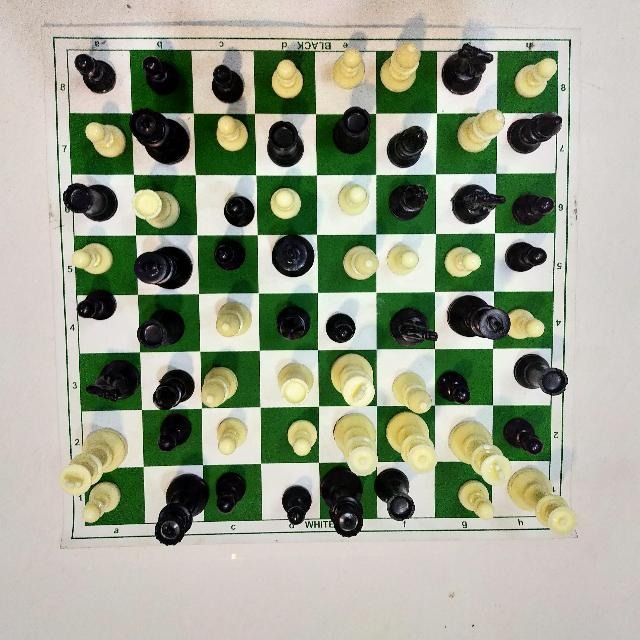black-bishop: (505, 112, 569, 158), (146, 367, 197, 411), (384, 178, 434, 222), (388, 119, 430, 169), (276, 298, 321, 342)
black-king: (450, 290, 510, 344), (131, 241, 196, 289), (269, 229, 318, 282)
black-knight: (437, 39, 499, 97), (450, 175, 508, 228), (85, 355, 143, 405), (388, 298, 442, 347)
black-pawn: (70, 44, 120, 96), (199, 54, 249, 104), (500, 240, 554, 282), (508, 184, 557, 228), (502, 410, 547, 457), (154, 408, 196, 457), (212, 467, 254, 515), (142, 55, 186, 99), (322, 301, 366, 343), (70, 283, 122, 318), (279, 483, 316, 530), (217, 189, 256, 233), (437, 367, 473, 413), (212, 239, 249, 270)
black-queen: (153, 471, 213, 551), (128, 107, 193, 165), (320, 466, 362, 544)
black-rook: (511, 351, 573, 401), (326, 102, 379, 160), (259, 112, 309, 168), (64, 178, 122, 225), (133, 303, 191, 349), (375, 469, 417, 523)
white-bishop: (451, 106, 510, 159), (376, 33, 425, 96), (388, 367, 435, 415), (335, 240, 383, 286), (197, 360, 245, 405), (210, 295, 256, 337)
white-king: (64, 423, 132, 493), (447, 418, 515, 484), (327, 346, 379, 406)
white-pawn: (74, 475, 131, 527), (511, 53, 567, 103), (79, 115, 135, 165), (442, 232, 488, 284), (454, 472, 498, 524), (327, 42, 369, 92), (283, 414, 323, 464), (70, 237, 123, 274), (504, 304, 547, 348), (215, 110, 253, 158), (210, 413, 252, 455), (329, 178, 372, 219), (267, 180, 307, 223), (386, 239, 428, 279), (267, 61, 309, 100)
white-queen: (510, 466, 579, 538), (387, 411, 443, 479), (334, 412, 384, 480)
white-rook: (128, 181, 182, 233), (274, 357, 313, 409)
